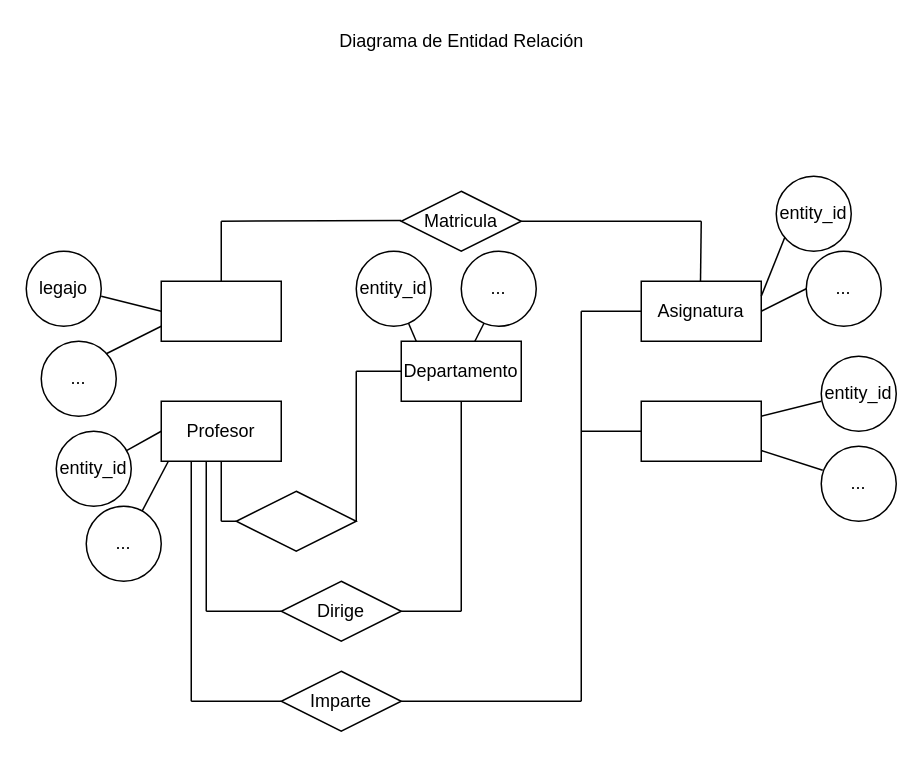
Some shapes in this 923 by 758 pixel diagram are drawn without their labels. The centre of each missing label's shape, as x and y in pixels:
"Alumno" goes at pixel 220 310.
"Clases" goes at pixel 700 430.
"Pertenece" goes at pixel 295 520.
